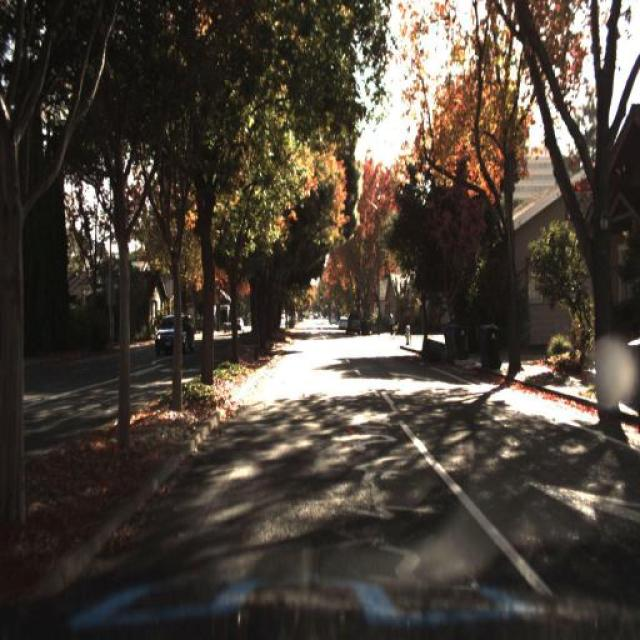car: (149, 310, 197, 360), (156, 313, 193, 352)
trafficLight: (386, 304, 395, 336)
